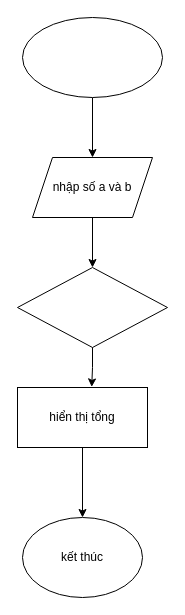
This 185x615 diagram has some shape labels left out. The shapes that lost their labels are listed below. From the top down, each one's centre as x and y in pixels, then its label:
At point (92, 57): "start".
At point (92, 307): "tính tổng = a + b".
